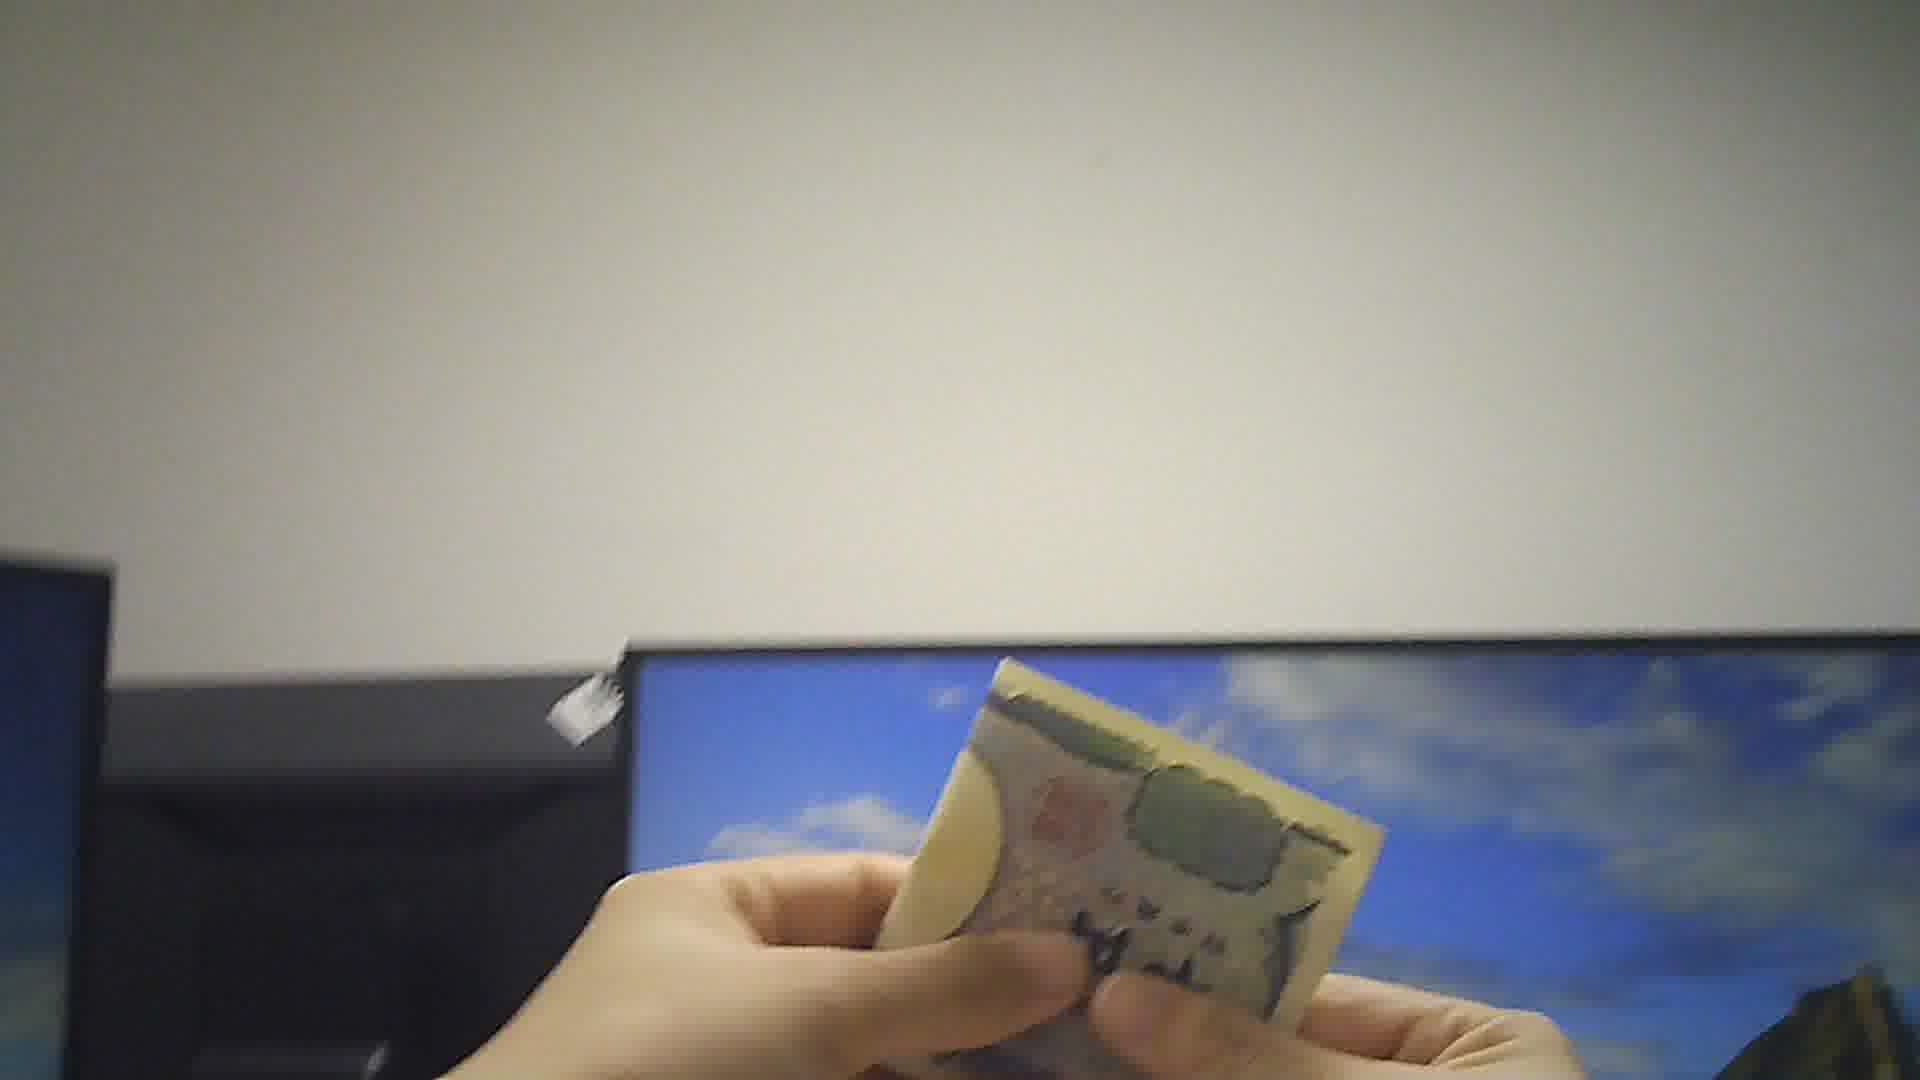1,000 Yen: (861, 646, 1393, 1077)
